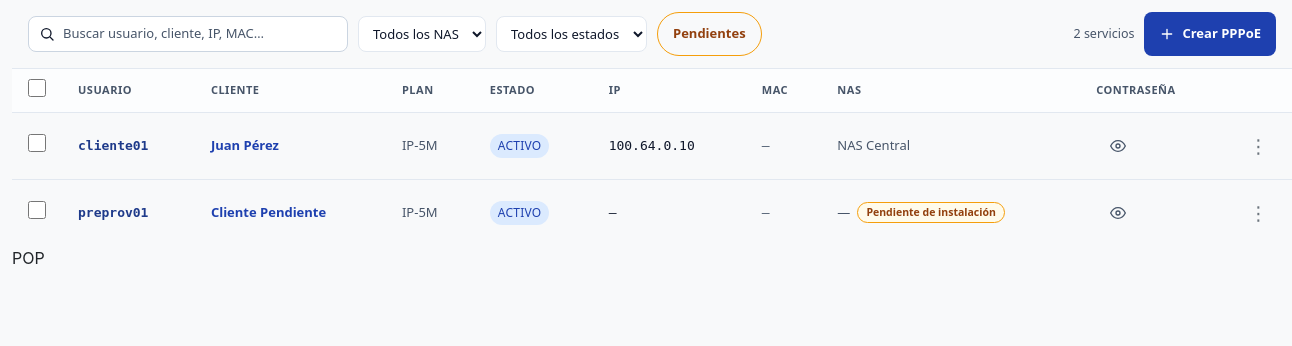
it: C1: chip "Pendientes" y el invariante anti-TOCTOU de la selección › (a) seleccionar la página y togglear el chip deja la selección VACÍA
This screenshot has width=1292, height=346.
Click the checkbox named "seleccionar todos de esta página": (37, 88) [28,79,46,97]
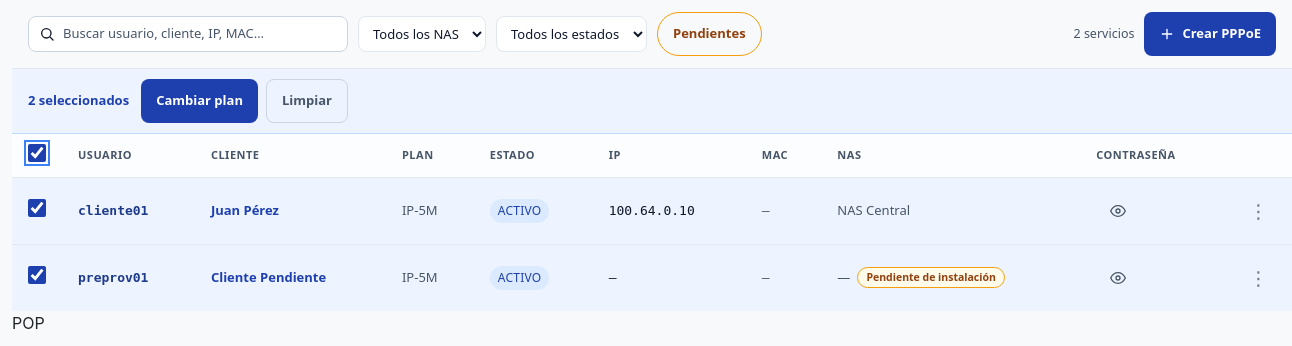
Now the text "2 seleccionados" is shown, box [28,91,129,111]
Click the button "Pendientes": (709, 34) [657,12,762,56]
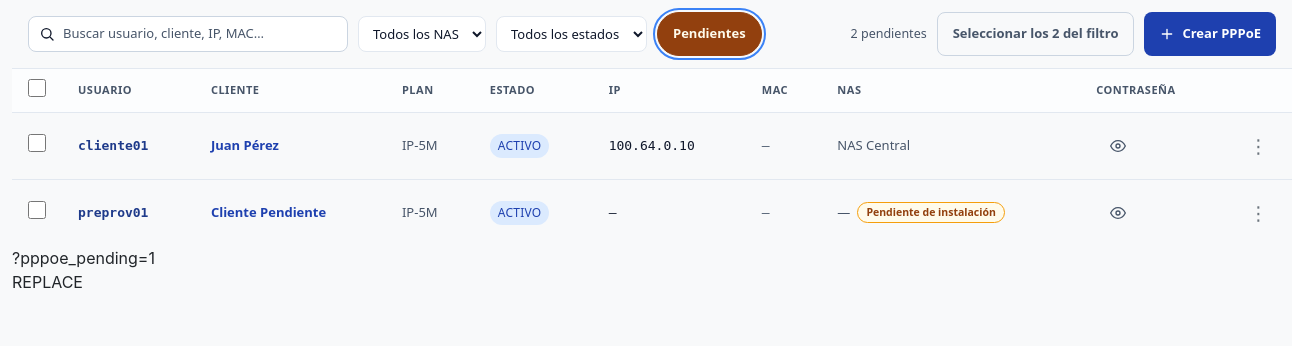
Now the text "seleccionado" is gone
